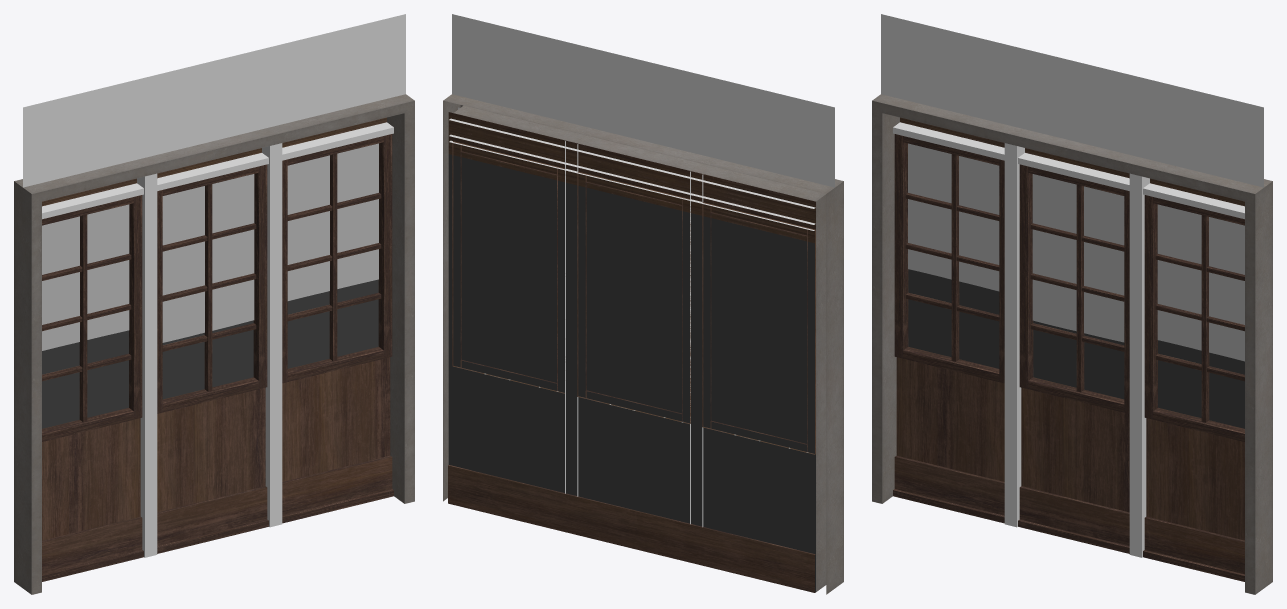
Rendered from Window_L.fbx.
The picture shows the model from 3 angles, left to right: view 1: azimuth 30°, elevation 25°; view 2: azimuth 150°, elevation 25°; view 3: azimuth 330°, elevation 25°; orthographic projection.
Parts seen in each view (by area): view 1: Window_L; view 2: Window_L; view 3: Window_L.
Part boxes in pixels (x1,y1,x2,y2): Window_L: (14,14,414,594); Window_L: (443,14,843,594); Window_L: (872,14,1272,594).
Bounding box in the file's own units: 250 × 300 × 22.24.
